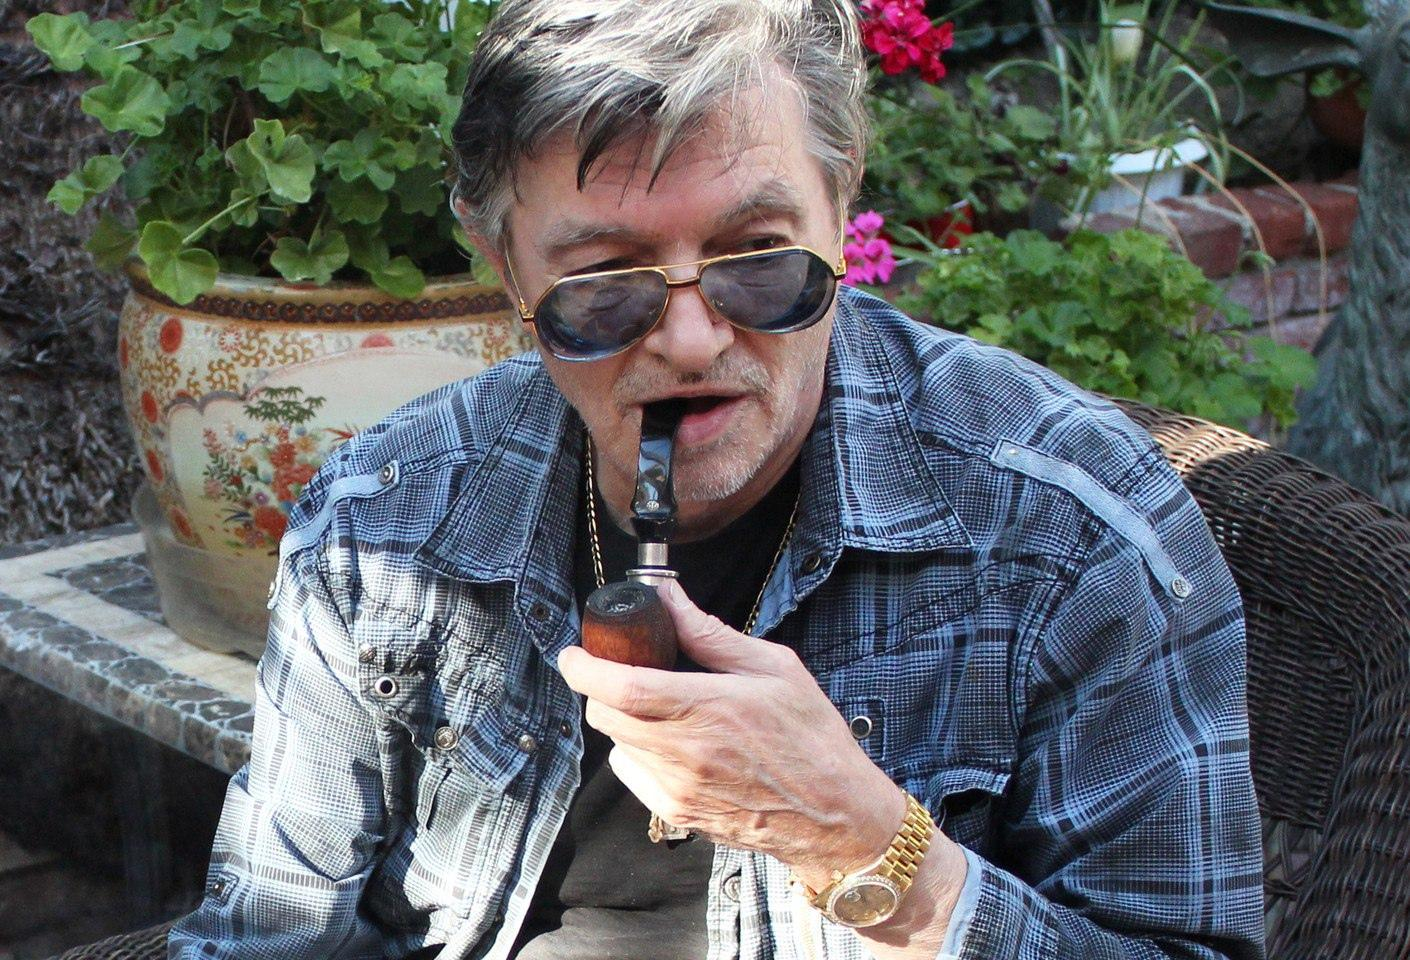trubka: (581, 402, 681, 669)
